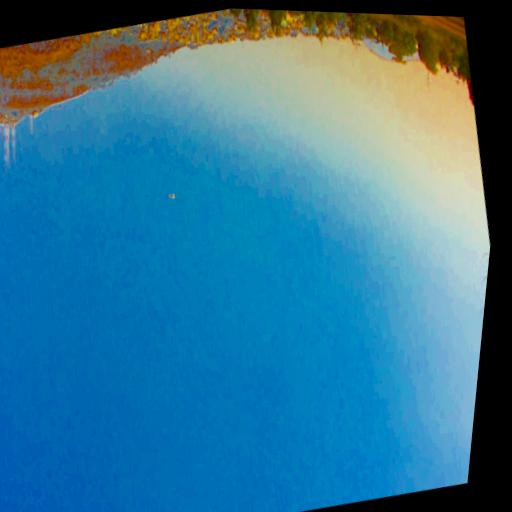drones: (165, 189, 179, 202)
